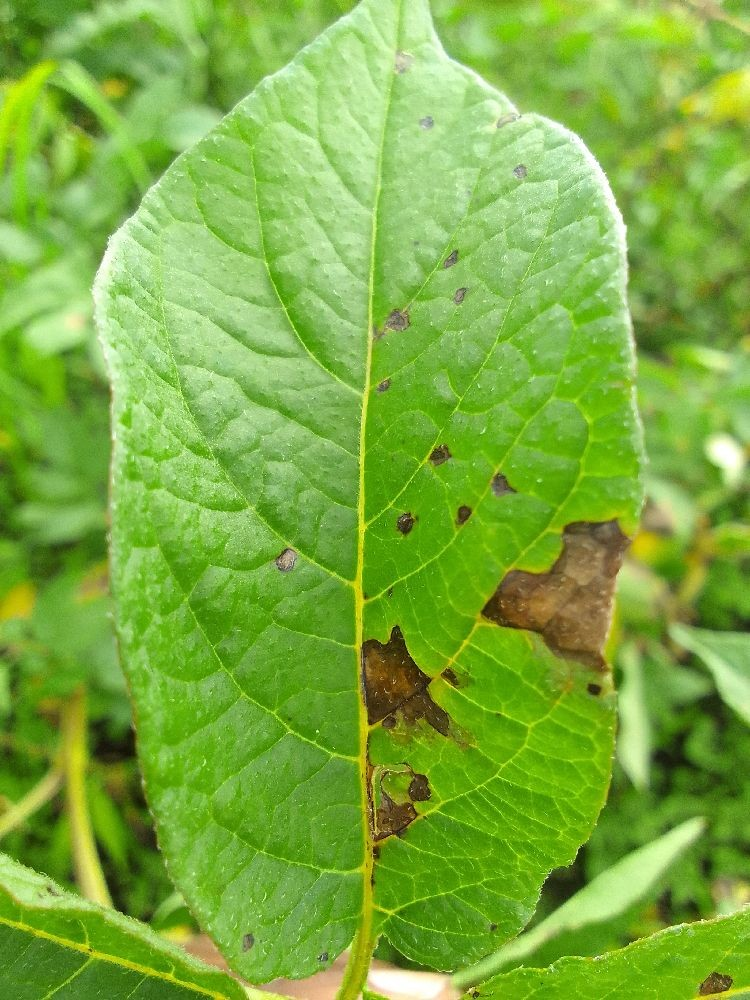late_blight: (340, 487, 731, 749), (76, 714, 172, 863), (350, 741, 442, 872)
